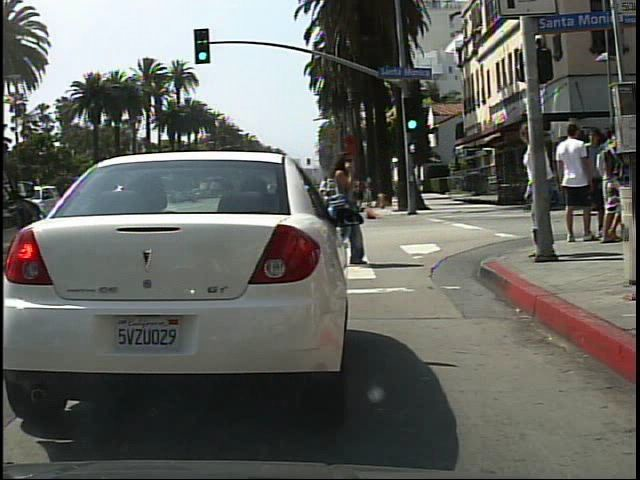person: (324, 147, 379, 275), (525, 123, 568, 264)
